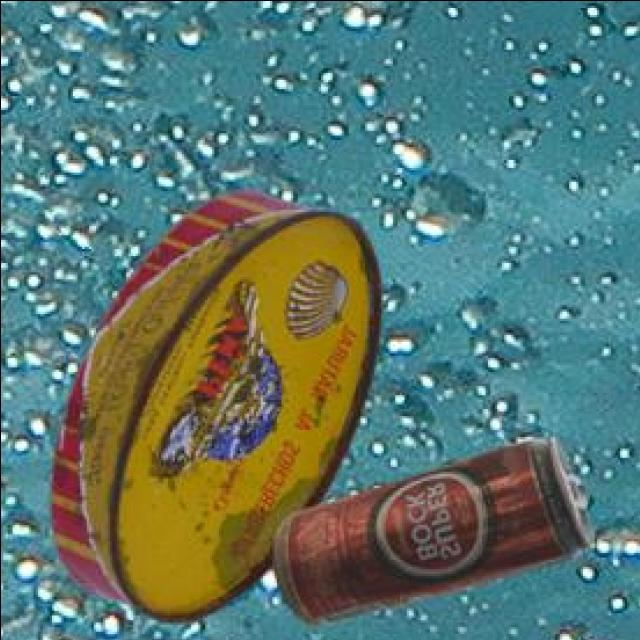logam: (45, 194, 377, 625), (268, 439, 589, 630)
